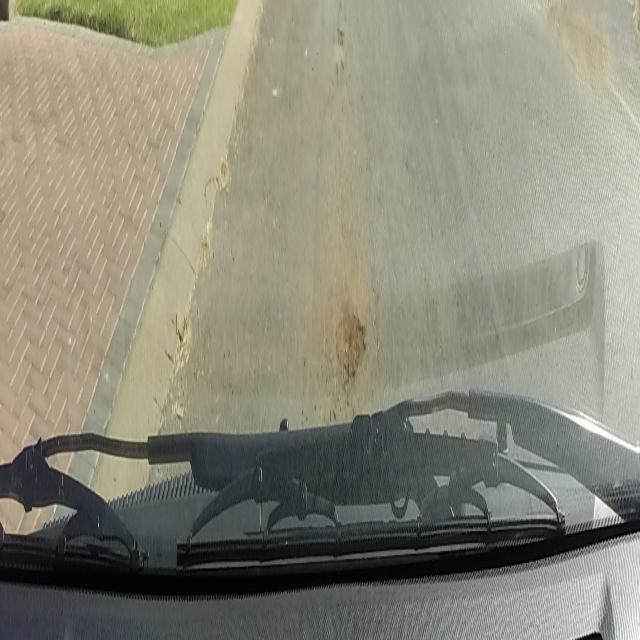pothole: (334, 292, 366, 380)
